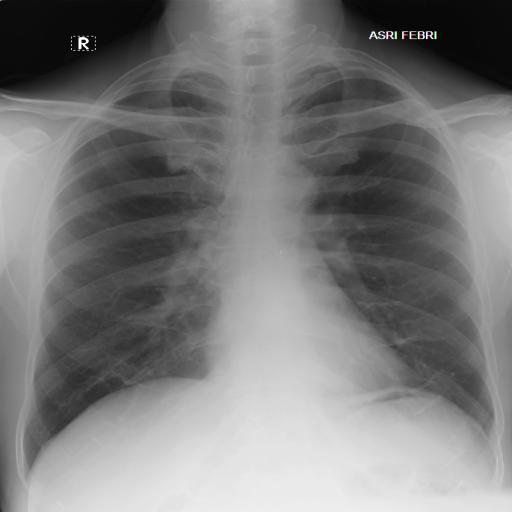normal: (11, 38, 508, 487)
